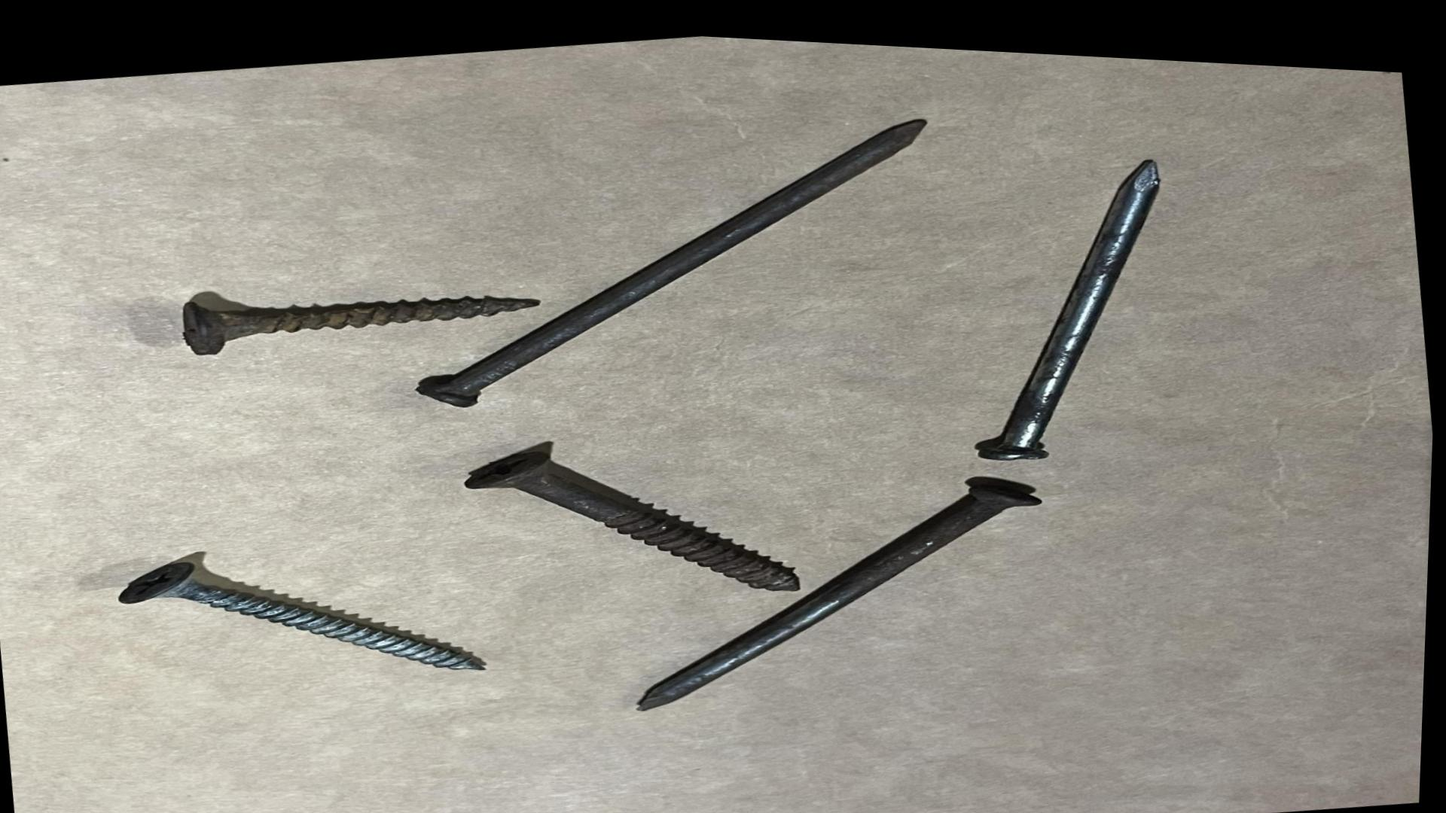nail: (351, 71, 1004, 440), (587, 433, 1158, 752), (920, 111, 1311, 477)
screw: (90, 501, 548, 727), (416, 395, 829, 631), (131, 246, 571, 391)
